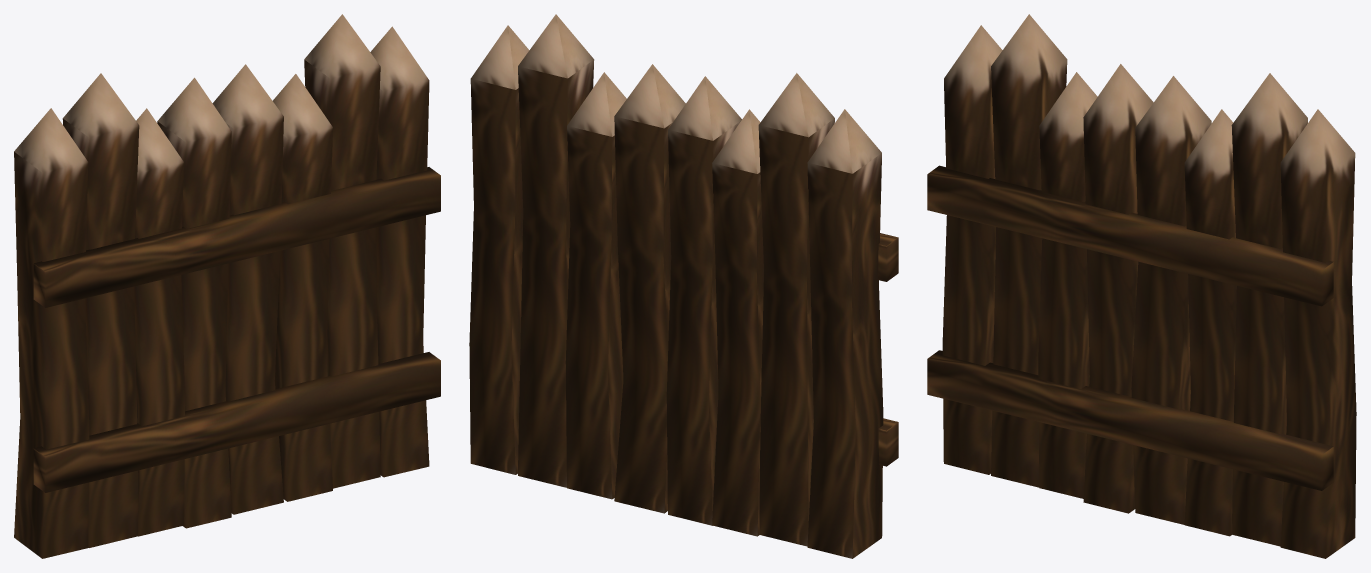
The model's file is Muro.fbx.
3 views of the same model, side by side, from view 1: azimuth 30°, elevation 25°; view 2: azimuth 150°, elevation 25°; view 3: azimuth 330°, elevation 25° (orthographic).
Parts seen in each view (by area): view 1: LOD_0; view 2: LOD_0; view 3: LOD_0.
Boxes of the visible parts, box(x1,y1,x2,y2) form: LOD_0: box(14, 14, 440, 558); LOD_0: box(469, 14, 898, 558); LOD_0: box(927, 14, 1356, 558).
Size of what is drawn, in the model's own units: 288 by 321 by 50.
